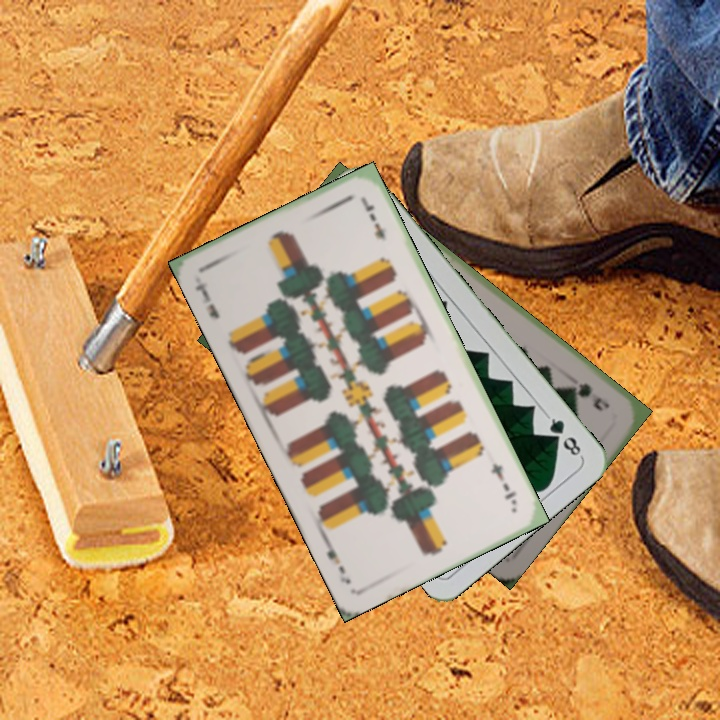E7: (487, 459, 520, 508), (191, 278, 222, 321)
G8: (542, 411, 585, 460)
G9: (567, 379, 613, 413)
